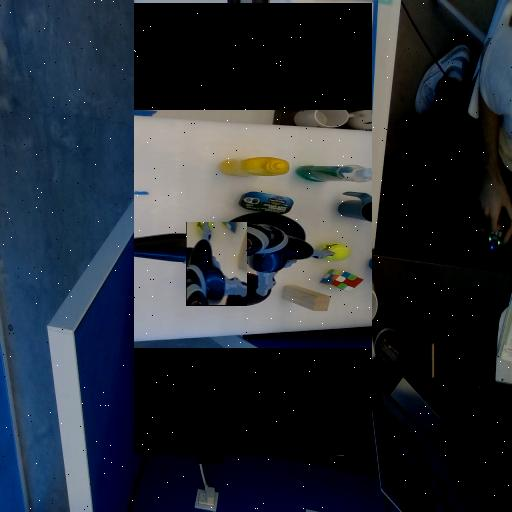bowl: (217, 210, 268, 262)
cleanser: (300, 271, 316, 351)
coffee_can: (176, 174, 214, 245)
jaco: (187, 222, 247, 306)
meat_can: (267, 214, 289, 268)
mug: (259, 313, 289, 369)
mustard_bottle: (305, 195, 324, 263)
rubik: (190, 305, 212, 327)
soup_can: (291, 379, 308, 434)
tennis_ball: (221, 294, 238, 324)
windex: (197, 394, 225, 416)
wooden_block: (170, 268, 195, 293)
workspace: (134, 113, 372, 341)
